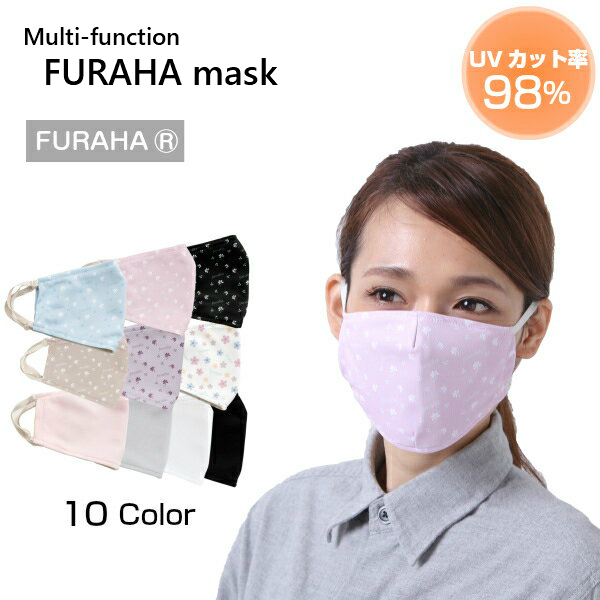mask: (336, 313, 518, 453)
